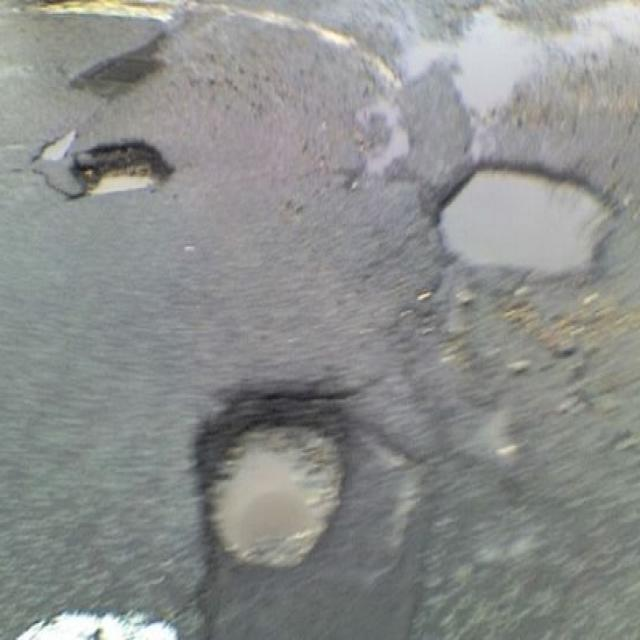pothole: (197, 374, 366, 570), (434, 156, 626, 274), (68, 132, 180, 200)
